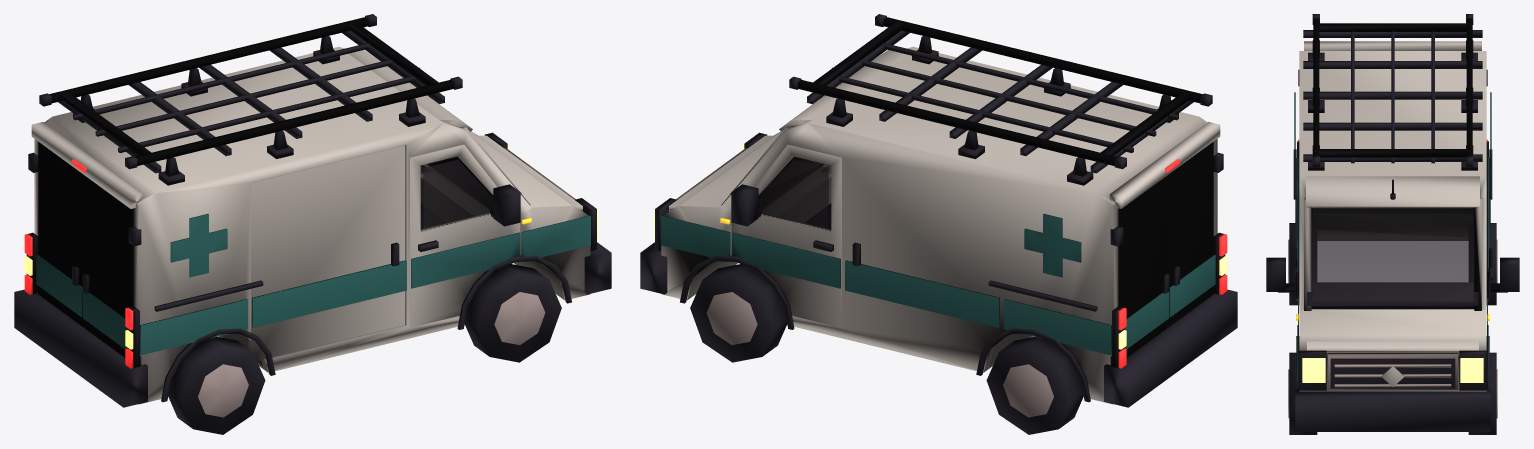
The model's file is veh.courier-van.lod2.glb.
3 views of the same model, side by side, from view 1: azimuth 30°, elevation 25°; view 2: azimuth 150°, elevation 25°; view 3: azimuth 270°, elevation 25° (orthographic). The views are drawn at different scales.
Visible parts, largest first — view 1: body, veh.courier-van, doorCargoL, doorL, doorRearL, doorRearR, wheelFL, wheelRL; view 2: body, veh.courier-van, doorR, doorRearR, doorRearL, wheelFR, wheelRR; view 3: veh.courier-van, body, doorL, doorR, wheelRL, wheelRR, wheelFL, wheelFR, lampHeadL, lampHeadR, doorCargoL.
Part boxes in pixels (bbox=[...]): body: bbox=[31, 46, 590, 404]; veh.courier-van: bbox=[14, 14, 611, 407]; doorCargoL: bbox=[248, 145, 406, 360]; doorL: bbox=[410, 144, 520, 327]; doorRearL: bbox=[82, 176, 141, 365]; doorRearR: bbox=[28, 142, 84, 327]; wheelFL: bbox=[464, 264, 561, 362]; wheelRL: bbox=[168, 337, 265, 434]; body: bbox=[661, 46, 1220, 404]; veh.courier-van: bbox=[640, 14, 1237, 407]; doorR: bbox=[731, 144, 841, 327]; doorRearR: bbox=[1110, 176, 1169, 365]; doorRearL: bbox=[1167, 142, 1223, 327]; wheelFR: bbox=[690, 264, 787, 362]; wheelRR: bbox=[986, 337, 1083, 434]; veh.courier-van: bbox=[1293, 14, 1492, 431]; body: bbox=[1299, 41, 1486, 391]; doorL: bbox=[1266, 204, 1299, 344]; doorR: bbox=[1486, 204, 1519, 344]; wheelRL: bbox=[1288, 223, 1316, 305]; wheelRR: bbox=[1469, 223, 1497, 305]; wheelFL: bbox=[1288, 352, 1317, 434]; wheelFR: bbox=[1468, 352, 1497, 434]; lampHeadL: bbox=[1302, 358, 1325, 382]; lampHeadR: bbox=[1460, 358, 1483, 382]; doorCargoL: bbox=[1293, 207, 1298, 300].
Size of the model in its own units: 5.4 by 3 by 2.71.
